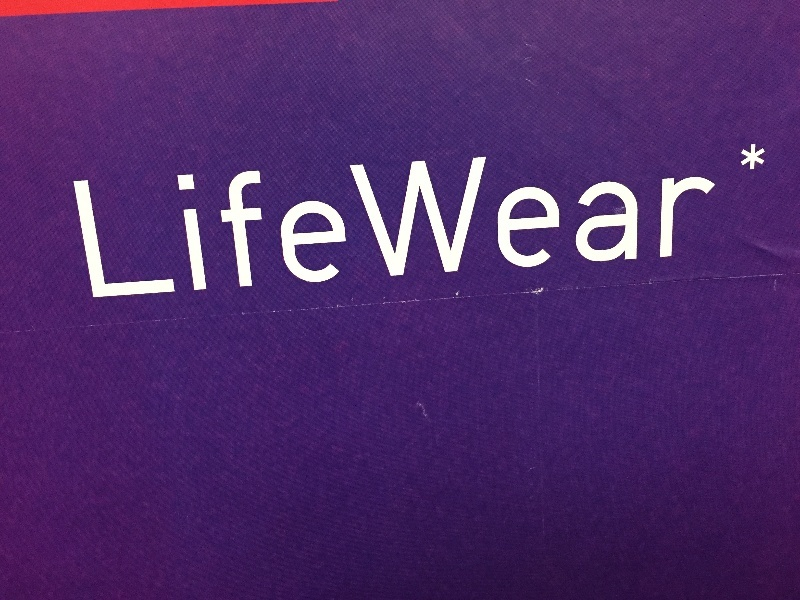text: (81, 143, 96, 299), (97, 143, 112, 299), (113, 143, 128, 299), (129, 143, 144, 299), (145, 143, 160, 299), (161, 143, 176, 299), (177, 143, 192, 299), (193, 143, 208, 299), (209, 143, 224, 299), (225, 143, 240, 299), (241, 143, 256, 299), (257, 143, 272, 299), (273, 143, 288, 299), (289, 143, 304, 299), (305, 143, 320, 299), (321, 143, 336, 299), (337, 143, 352, 299), (353, 143, 368, 299), (369, 143, 384, 299), (385, 143, 400, 299), (401, 143, 416, 299), (417, 143, 432, 299), (433, 143, 448, 299), (449, 143, 464, 299), (465, 143, 480, 299), (481, 143, 496, 299), (497, 143, 512, 299), (513, 143, 528, 299), (529, 143, 544, 299), (545, 143, 560, 299), (561, 143, 576, 299), (577, 143, 592, 299), (593, 143, 608, 299), (609, 143, 624, 299), (625, 143, 640, 299), (641, 143, 656, 299), (657, 143, 672, 299), (673, 143, 688, 299), (689, 143, 704, 299), (705, 143, 720, 299), (71, 143, 80, 299), (753, 143, 767, 171), (742, 143, 752, 171)
